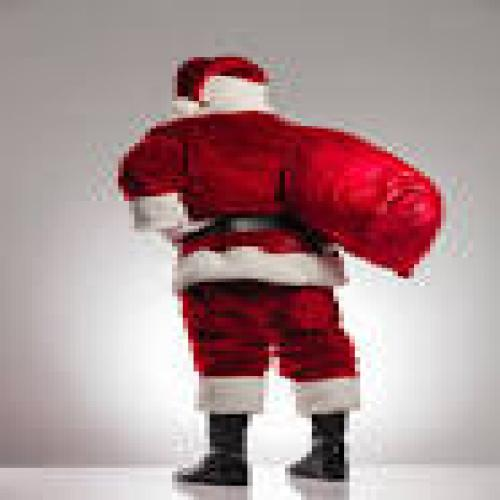Santa: (105, 53, 361, 489)
